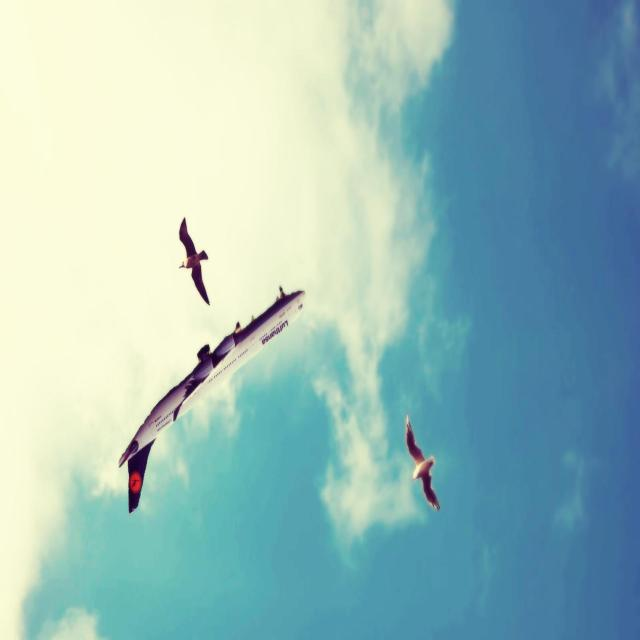airplane: (117, 284, 306, 513)
